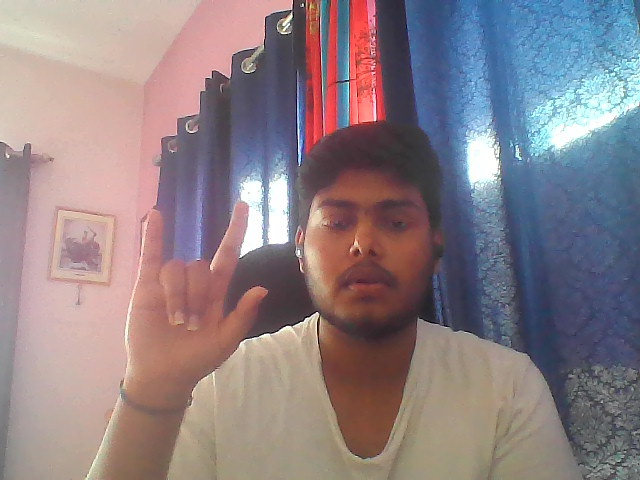I Love You: (115, 196, 273, 403)
